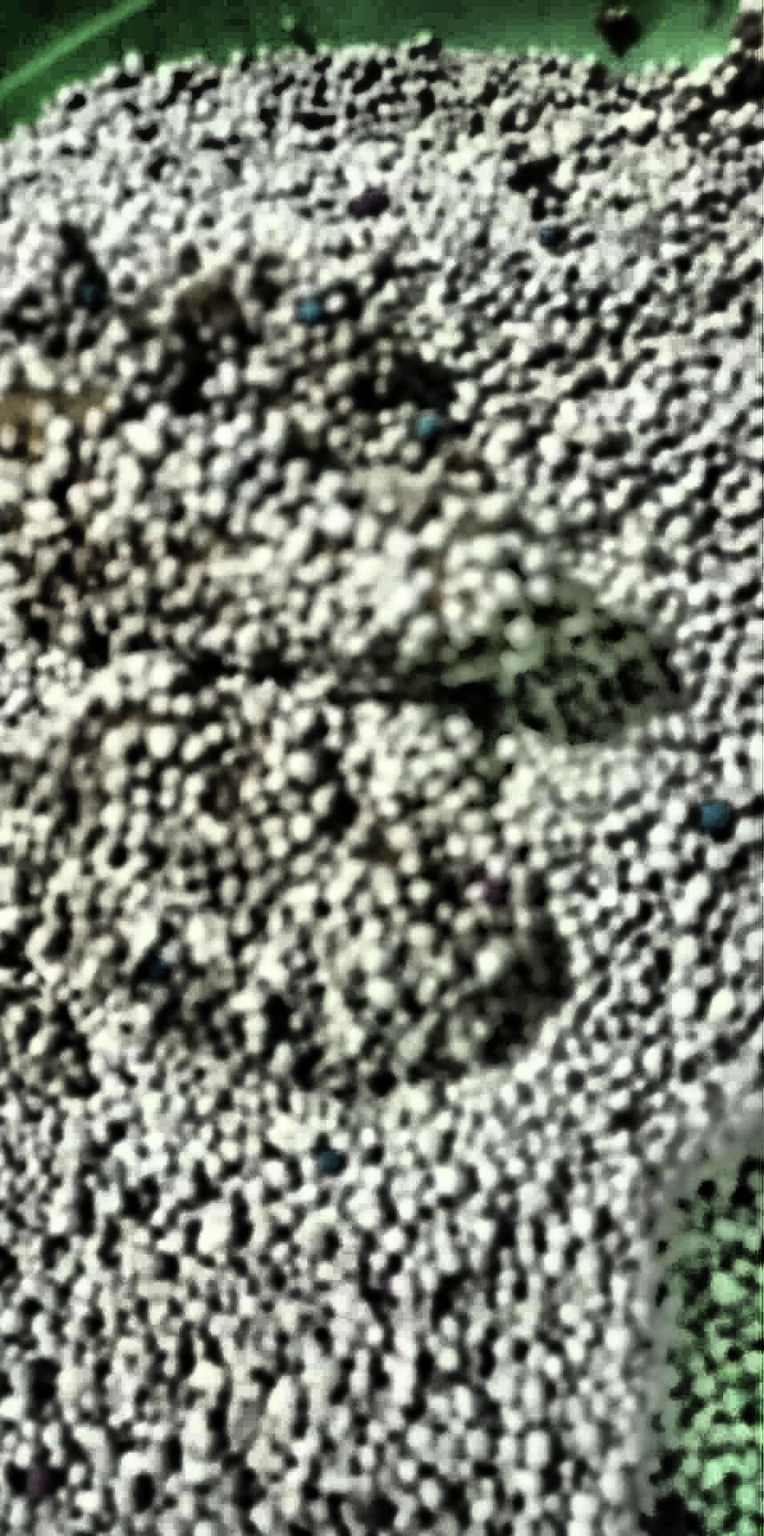poop: (0, 232, 678, 1102)
